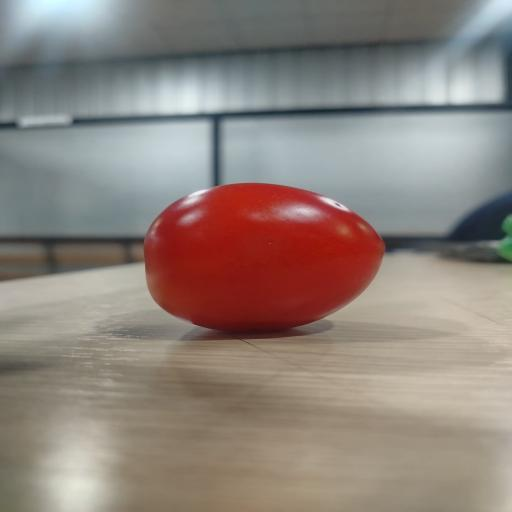ripe: (144, 183, 384, 331)
